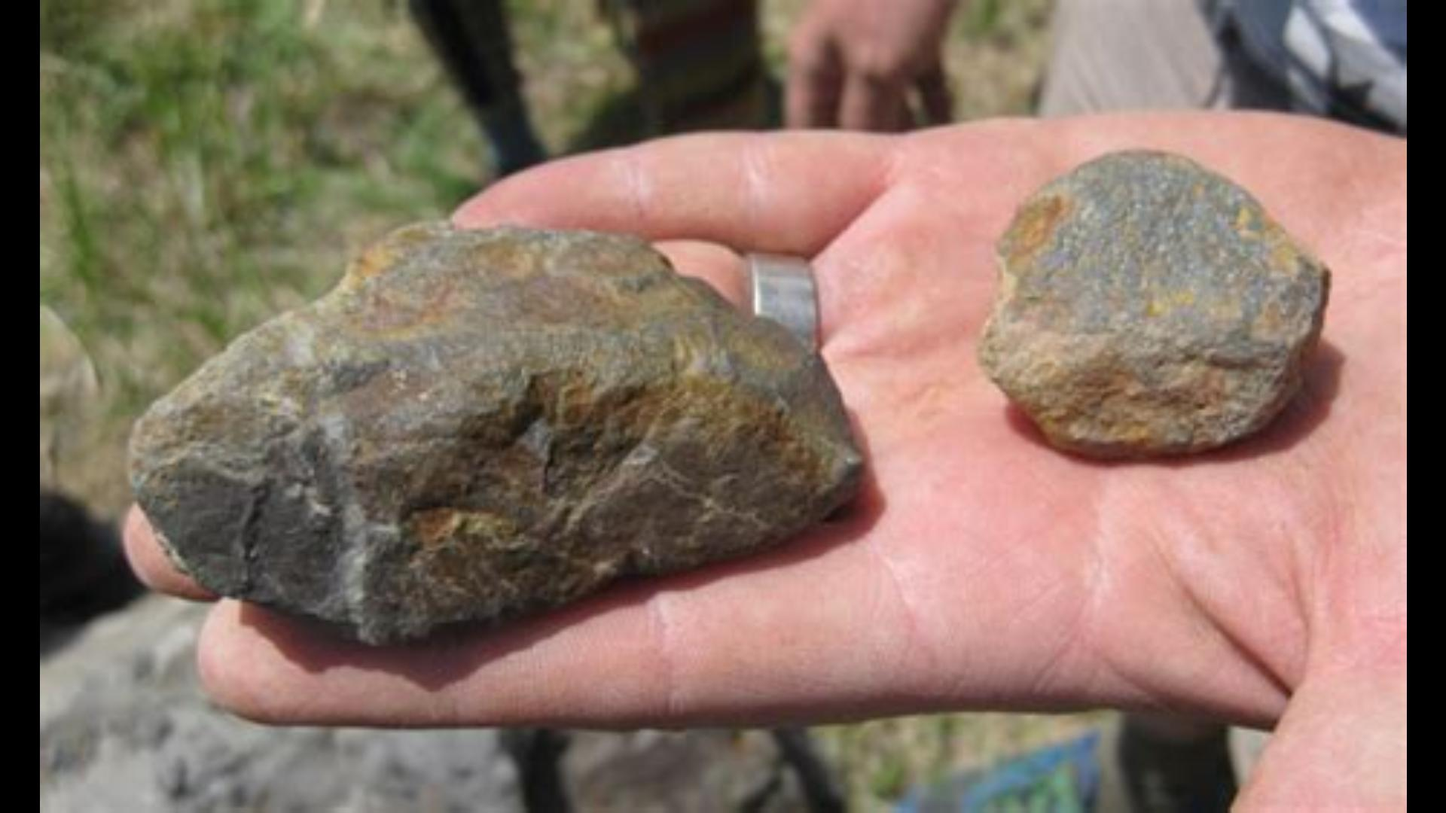rock: (131, 231, 858, 643), (982, 154, 1324, 448)
